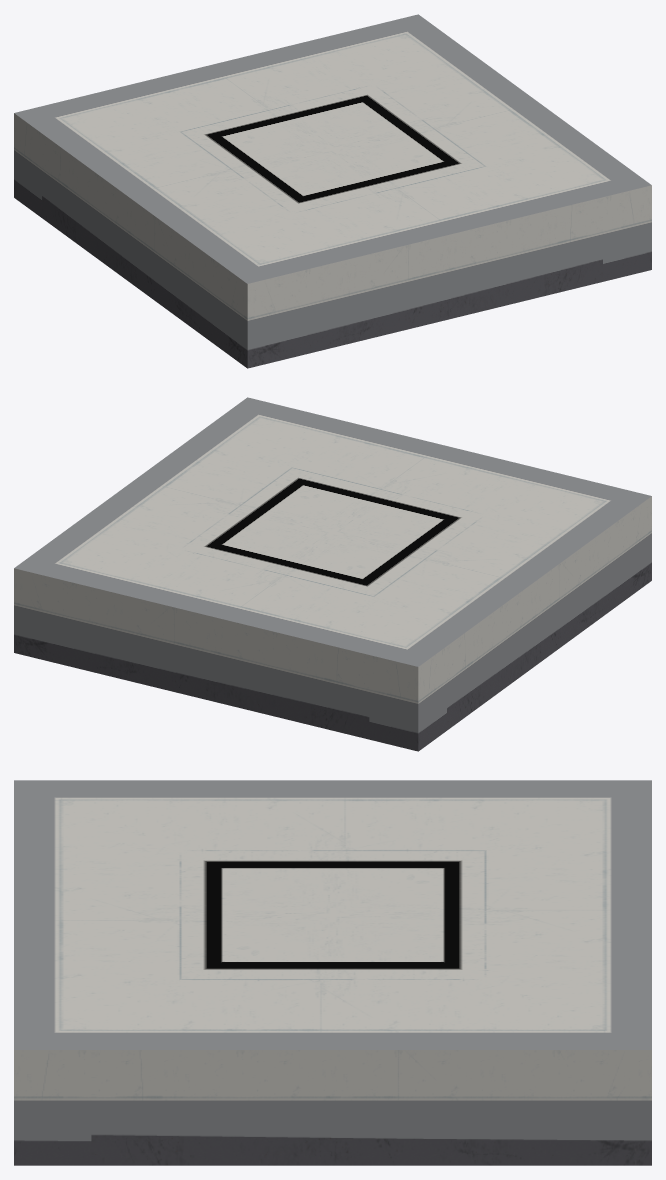
File: G_Env_Arch_Floor_Metal_08_Single.fbx
3 views of the same model, one above another, from view 1: azimuth 30°, elevation 25°; view 2: azimuth 150°, elevation 25°; view 3: azimuth 270°, elevation 25° (orthographic). The views are drawn at different scales.
Visible parts, largest first — view 1: G_Env_Arch_Floor_Metal_08_Single; view 2: G_Env_Arch_Floor_Metal_08_Single; view 3: G_Env_Arch_Floor_Metal_08_Single.
Boxes of the visible parts, x1,y1,x2,y2 form: G_Env_Arch_Floor_Metal_08_Single: [14, 14, 651, 368]; G_Env_Arch_Floor_Metal_08_Single: [14, 397, 651, 751]; G_Env_Arch_Floor_Metal_08_Single: [14, 780, 651, 1165].
Size of the model in its own units: 500 by 100 by 500.
